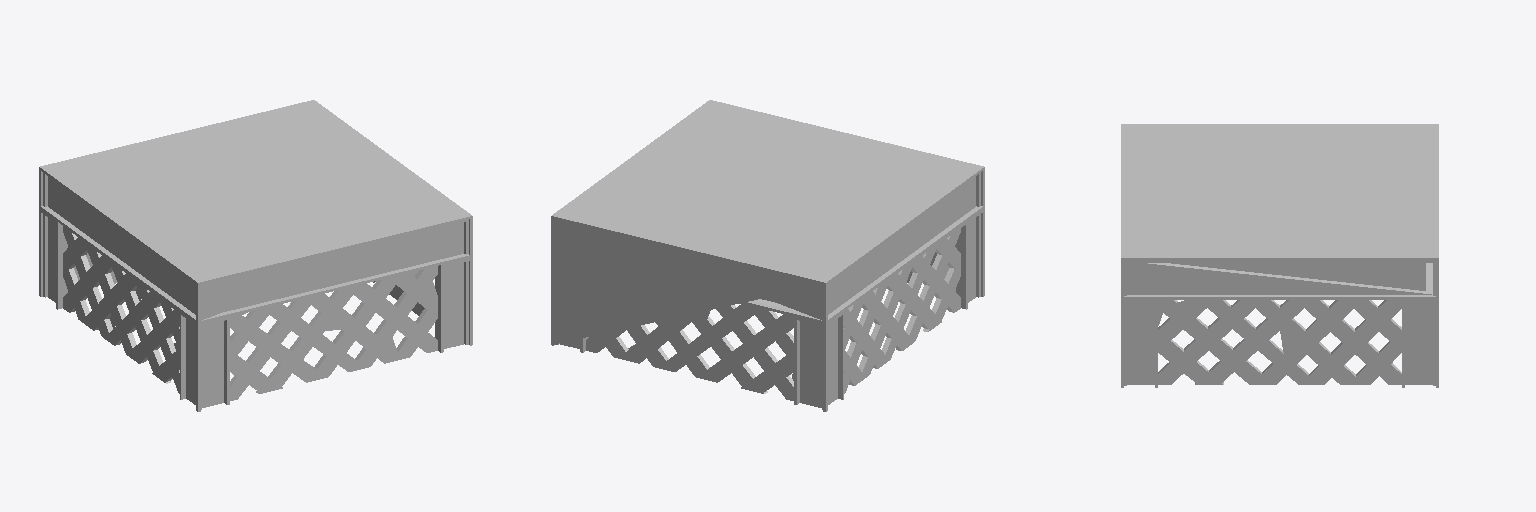
The model's file is Half_Crate__188608_.obj.
3 views of the same model, side by side, from view 1: azimuth 30°, elevation 25°; view 2: azimuth 150°, elevation 25°; view 3: azimuth 270°, elevation 25° (orthographic).
Parts seen in each view (by area): view 1: Half_Crate__188608__temp_Half_Crate__188608_.002; view 2: Half_Crate__188608__temp_Half_Crate__188608_.002; view 3: Half_Crate__188608__temp_Half_Crate__188608_.002.
Boxes of the visible parts, <box> form: Half_Crate__188608__temp_Half_Crate__188608_.002: <box>39,100,472,411</box>; Half_Crate__188608__temp_Half_Crate__188608_.002: <box>551,100,984,411</box>; Half_Crate__188608__temp_Half_Crate__188608_.002: <box>1121,124,1438,387</box>.
Bounding box in the file's own units: 0.3334 × 0.15 × 0.3334.